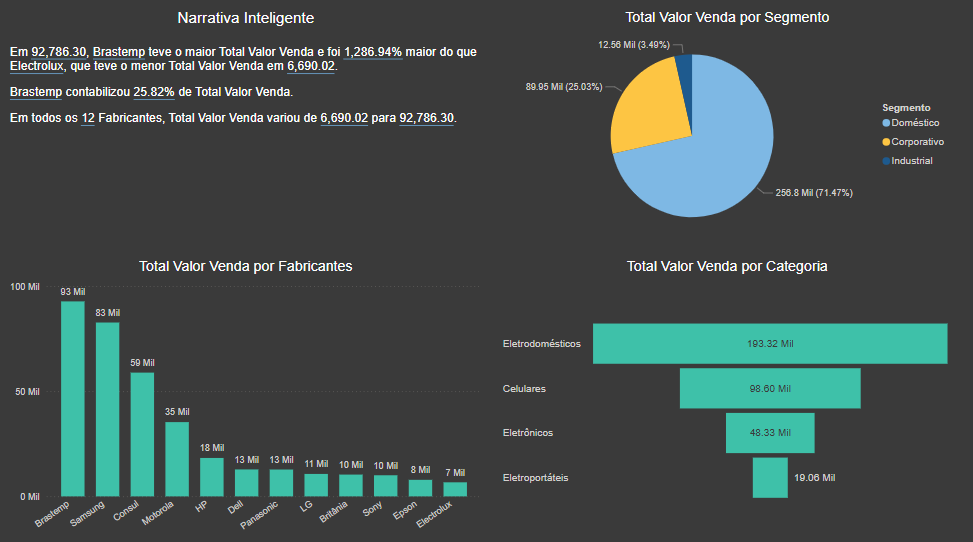

The dashboard page shown, as its layout file describes it:
{"tool":"powerbi","page":{"name":"Narrativa Inteligente","canvas":[1280,720],"ordinal":1},"visuals":[{"type":"pieChart","fields":{"Category":["Vendas.Segmento"],"Y":["Sum(Vendas.ValorVenda)"]},"box":[656.6,17.3,597.6,311],"z":0},{"type":"funnel","fields":{"Y":["Sum(Vendas.ValorVenda)"],"Category":["Vendas.Categoria"]},"box":[656.6,342.7,597.6,377.3],"z":1000},{"type":"clusteredColumnChart","fields":{"Category":["Vendas.Fabricante"],"Y":["Sum(Vendas.ValorVenda)"]},"box":[11.5,342.7,627.8,377.3],"z":2000},{"type":"textbox","title":"Narrativa Inteligente ","box":[12,17,628,311],"z":3000}]}

Visuals, with their boxes in screenshot pixels (x1, y1, x2, y2), scaled from the page's 1280x720 canvas onto the 973x542 screenshot:
pieChart - Vendas.Segmento x Sum(Vendas.ValorVenda): l=499, t=13, r=953, b=247
funnel - Sum(Vendas.ValorVenda) x Vendas.Categoria: l=499, t=258, r=953, b=541
clusteredColumnChart - Vendas.Fabricante x Sum(Vendas.ValorVenda): l=9, t=258, r=486, b=541
"Narrativa Inteligente " textbox: l=9, t=13, r=486, b=247
